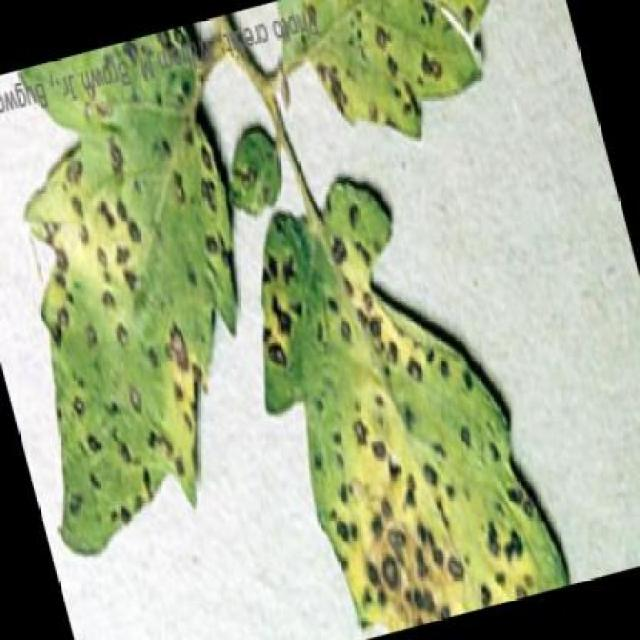Septoria leaf spot: (209, 134, 583, 640), (0, 32, 315, 573), (283, 0, 550, 175)
